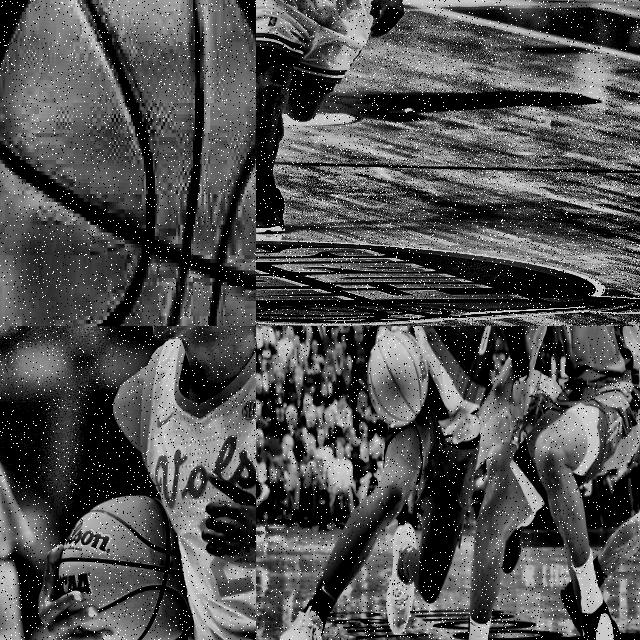Basketball: (59, 496, 192, 640), (368, 332, 429, 425)
